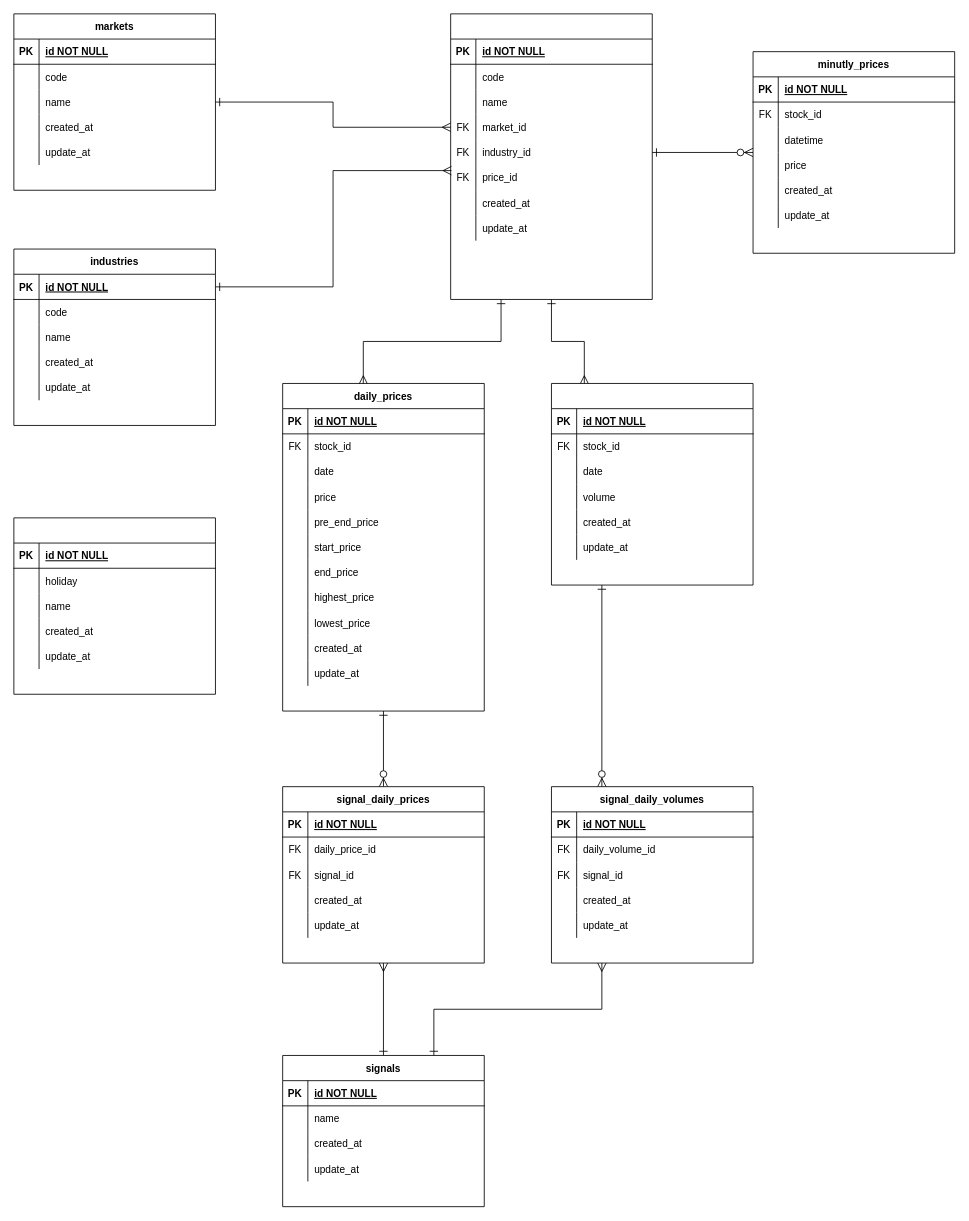
The diagram is 969 pixels wide and 1221 high, and some of its shapes have lost their labels. The shapes that lost their labels are listed below. From the top down, each one's box as (x1, y1, x2, y2) in pixels, then its label:
(450, 13, 652, 299): stocks
(551, 383, 753, 585): daily_volumes
(13, 517, 215, 694): holidays
